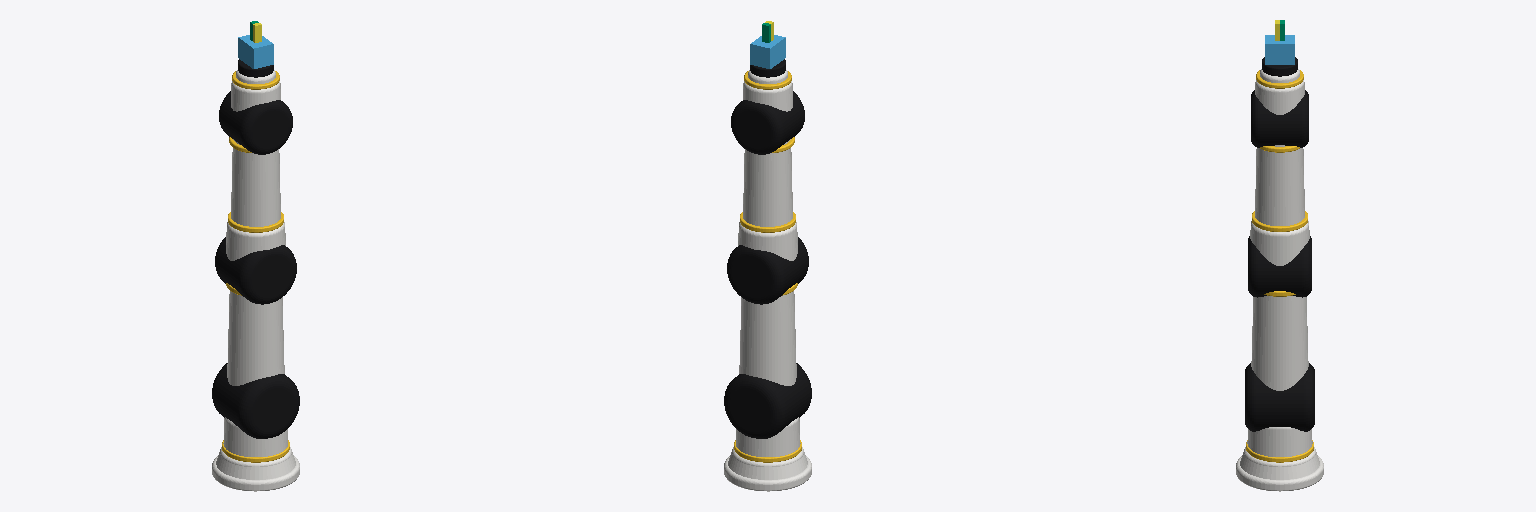
The robot description file, URDF, robot "omniarm6":
<?xml version='1.0' encoding='utf-8'?>
<robot name="omniarm6">

	<link name="link0">
		<inertial>
			<origin rpy="0 0 0" xyz="-0.00090289 -3.524e-05 0.0464554" />
			<mass value="2.002" />
			<inertia ixx="0.00382661" ixy="-1.191e-05" ixz="-3.816e-05" iyy="0.00386108" iyz="-1.6e-06" izz="0.00485705" />
		</inertial>
		<visual>
			<origin xyz="0 0 0" rpy="0 0 0" />
			<geometry>
				<mesh filename="meshes/link0_shell.obj" />
			</geometry>
			<material name="omnisim_shell">
				<color rgba="0.898 0.894 0.882 1.0" />
				<omnisim roughness="0.42" metalness="0.0" />
			</material>
		</visual>
		<visual>
			<origin xyz="0 0 0" rpy="0 0 0" />
			<geometry>
				<mesh filename="meshes/link0_accent.obj" />
			</geometry>
			<material name="omnisim_accent">
				<color rgba="0.965 0.780 0.204 1.0" />
				<omnisim roughness="0.35" metalness="0.2" />
			</material>
		</visual>
<collision>
			<origin xyz="-0.02 0 0.037" rpy="0 0 0" />
			<geometry>
				<cylinder radius="0.12" length="0.075" />
			</geometry>
		</collision>
	</link>

	<link name="link1">
		<inertial>
			<origin rpy="0 0 0" xyz="2.496e-05 0.0196556 0.169149" />
			<mass value="8.256" />
			<inertia ixx="0.0447417" ixy="-5.18e-06" ixz="3.29e-06" iyy="0.038383" iyz="-0.00805897" izz="0.0211142" />
		</inertial>
		<visual>
			<origin xyz="0 0 0" rpy="0 0 0" />
			<geometry>
				<mesh filename="meshes/link1_shell.obj" />
			</geometry>
			<material name="omnisim_shell">
				<color rgba="0.898 0.894 0.882 1.0" />
				<omnisim roughness="0.42" metalness="0.0" />
			</material>
		</visual>
		<visual>
			<origin xyz="0 0 0" rpy="0 0 0" />
			<geometry>
				<mesh filename="meshes/link1_joint.obj" />
			</geometry>
			<material name="omnisim_joint">
				<color rgba="0.129 0.129 0.137 1.0" />
				<omnisim roughness="0.28" metalness="0.85" />
			</material>
		</visual>
<collision>
			<origin xyz="0 0.01 0.17" rpy="0 0 0" />
			<geometry>
				<cylinder radius="0.10" length="0.23" />
			</geometry>
		</collision>
	</link>

	<link name="link2">
		<inertial>
			<origin rpy="0 0 0" xyz="-4.02745e-06 0.113023 0.158393" />
			<mass value="3.9668" />
			<inertia ixx="0.100126" ixy="1.52983e-07" ixz="4.2228e-06" iyy="0.0997161" iyz="0.00215017" izz="0.00646289" />
		</inertial>
		<visual>
			<origin xyz="0 0 0" rpy="0 0 0" />
			<geometry>
				<mesh filename="meshes/link2_shell.obj" />
			</geometry>
			<material name="omnisim_shell">
				<color rgba="0.898 0.894 0.882 1.0" />
				<omnisim roughness="0.42" metalness="0.0" />
			</material>
		</visual>
		<visual>
			<origin xyz="0 0 0" rpy="0 0 0" />
			<geometry>
				<mesh filename="meshes/link2_accent.obj" />
			</geometry>
			<material name="omnisim_accent">
				<color rgba="0.965 0.780 0.204 1.0" />
				<omnisim roughness="0.35" metalness="0.2" />
			</material>
		</visual>
		<visual>
			<origin xyz="0 0 0" rpy="0 0 0" />
			<geometry>
				<mesh filename="meshes/link2_joint.obj" />
			</geometry>
			<material name="omnisim_joint">
				<color rgba="0.129 0.129 0.137 1.0" />
				<omnisim roughness="0.28" metalness="0.85" />
			</material>
		</visual>
<collision>
			<origin xyz="0 0.13 0.185" rpy="0 0 0" />
			<geometry>
				<cylinder radius="0.10" length="0.49" />
			</geometry>
		</collision>
	</link>

	<link name="link3">
		<inertial>
			<origin rpy="0 -0 0" xyz="-3.51946e-05 0.0177216 0.04073" />
			<mass value="5.26105" />
			<inertia ixx="0.0206029" ixy="1.61027e-05" ixz="2.308e-06" iyy="0.016636" iyz="0.00374158" izz="0.010099" />
		</inertial>
		<visual>
			<origin xyz="0 0 0" rpy="0 0 0" />
			<geometry>
				<mesh filename="meshes/link3_shell.obj" />
			</geometry>
			<material name="omnisim_shell">
				<color rgba="0.898 0.894 0.882 1.0" />
				<omnisim roughness="0.42" metalness="0.0" />
			</material>
		</visual>
		<visual>
			<origin xyz="0 0 0" rpy="0 0 0" />
			<geometry>
				<mesh filename="meshes/link3_accent.obj" />
			</geometry>
			<material name="omnisim_accent">
				<color rgba="0.965 0.780 0.204 1.0" />
				<omnisim roughness="0.35" metalness="0.2" />
			</material>
		</visual>
<collision>
			<origin xyz="0 0 0.04" rpy="0 0 0" />
			<geometry>
				<cylinder radius="0.10" length="0.20" />
			</geometry>
		</collision>
	</link>

	<link name="link4">
		<inertial>
			<origin rpy="0 -0 0" xyz="8.08281e-05 0.044542 0.241911" />
			<mass value="2.271" />
			<inertia ixx="0.0342334" ixy="3.365e-06" ixz="-4.11571e-06" iyy="0.0311273" iyz="-0.00818683" izz="0.00522653" />
		</inertial>
		<visual>
			<origin xyz="0 0 0" rpy="0 0 0" />
			<geometry>
				<mesh filename="meshes/link4_shell.obj" />
			</geometry>
			<material name="omnisim_shell">
				<color rgba="0.898 0.894 0.882 1.0" />
				<omnisim roughness="0.42" metalness="0.0" />
			</material>
		</visual>
		<visual>
			<origin xyz="0 0 0" rpy="0 0 0" />
			<geometry>
				<mesh filename="meshes/link4_accent.obj" />
			</geometry>
			<material name="omnisim_accent">
				<color rgba="0.965 0.780 0.204 1.0" />
				<omnisim roughness="0.35" metalness="0.2" />
			</material>
		</visual>
		<visual>
			<origin xyz="0 0 0" rpy="0 0 0" />
			<geometry>
				<mesh filename="meshes/link4_joint.obj" />
			</geometry>
			<material name="omnisim_joint">
				<color rgba="0.129 0.129 0.137 1.0" />
				<omnisim roughness="0.28" metalness="0.85" />
			</material>
		</visual>
<collision>
			<origin xyz="0 0.035 0.29" rpy="0 0 0" />
			<geometry>
				<cylinder radius="0.10" length="0.35" />
			</geometry>
		</collision>
	</link>

	<link name="link5">
		<inertial>
			<origin rpy="0 -0 0" xyz="4.18387e-05 0.0147744 0.0354" />
			<mass value="2.54629" />
			<inertia ixx="0.00855547" ixy="4.97317e-06" ixz="6.07841e-06" iyy="0.00582159" iyz="0.00129227" izz="0.00358312" />
		</inertial>
		<visual>
			<origin xyz="0 0 0" rpy="0 0 0" />
			<geometry>
				<mesh filename="meshes/link5_shell.obj" />
			</geometry>
			<material name="omnisim_shell">
				<color rgba="0.898 0.894 0.882 1.0" />
				<omnisim roughness="0.42" metalness="0.0" />
			</material>
		</visual>
		<visual>
			<origin xyz="0 0 0" rpy="0 0 0" />
			<geometry>
				<mesh filename="meshes/link5_accent.obj" />
			</geometry>
			<material name="omnisim_accent">
				<color rgba="0.965 0.780 0.204 1.0" />
				<omnisim roughness="0.35" metalness="0.2" />
			</material>
		</visual>
<collision>
			<origin xyz="0 0 0.04" rpy="0 0 0" />
			<geometry>
				<cylinder radius="0.10" length="0.18" />
			</geometry>
		</collision>
	</link>

	<link name="link6">
		<inertial>
			<origin rpy="0 -0 0" xyz="-2.51647e-06 0.000204679 0.12067" />
			<mass value="0.577639" />
			<inertia ixx="0.00034085" ixy="1.01877e-06" ixz="-1.4781e-07" iyy="0.00038675" iyz="-1.06647e-06" izz="0.000536577" />
		</inertial>
		<visual>
			<origin xyz="0 0 0" rpy="0 0 0" />
			<geometry>
				<mesh filename="meshes/link6_shell.obj" />
			</geometry>
			<material name="omnisim_shell">
				<color rgba="0.898 0.894 0.882 1.0" />
				<omnisim roughness="0.42" metalness="0.0" />
			</material>
		</visual>
		<visual>
			<origin xyz="0 0 0" rpy="0 0 0" />
			<geometry>
				<mesh filename="meshes/link6_joint.obj" />
			</geometry>
			<material name="omnisim_joint">
				<color rgba="0.129 0.129 0.137 1.0" />
				<omnisim roughness="0.28" metalness="0.85" />
			</material>
		</visual>
<collision>
			<origin xyz="0 0 0.083" rpy="0 0 0" />
			<geometry>
				<cylinder radius="0.05" length="0.165" />
			</geometry>
		</collision>
	</link>

	<link name="flange">
	</link>

	<link name="gripper_tcp">
	</link>


	<joint name="joint1" type="revolute">
		<limit lower="-3.14159" upper="3.14159" effort="194" velocity="3.1415" />
		<origin rpy="0 0 0" xyz="0 0 0" />
		<parent link="link0" />
		<child link="link1" />
		<axis xyz="0 0 1" />
	</joint>

	<joint name="joint2" type="revolute">
		<limit lower="-3.14159" upper="3.14159" effort="194" velocity="3.1415" />
		<origin rpy="0 0 0" xyz="0 0 0.22" />
		<parent link="link1" />
		<child link="link2" />
		<axis xyz="0 1 0" />
	</joint>

	<joint name="joint3" type="revolute">
		<limit lower="-2.61799" upper="2.61799" effort="102" velocity="3.1415" />
		<origin rpy="0 0 0" xyz="0 0 0.38" />
		<parent link="link2" />
		<child link="link3" />
		<axis xyz="0 1 0" />
	</joint>

	<joint name="joint4" type="revolute">
		<limit lower="-6.28319" upper="6.28319" effort="102" velocity="3.1415" />
		<origin rpy="0 0 0" xyz="0 0 0" />
		<parent link="link3" />
		<child link="link4" />
		<axis xyz="0 0 1" />
	</joint>

	<joint name="joint5" type="revolute">
		<limit lower="-3.14159" upper="3.14159" effort="34" velocity="3.4906" />
		<origin rpy="0 0 0" xyz="0 0 0.42" />
		<parent link="link4" />
		<child link="link5" />
		<axis xyz="0 1 0" />
	</joint>

	<joint name="joint6" type="revolute">
		<limit lower="-6.28319" upper="6.28319" effort="34" velocity="3.4906" />
		<origin rpy="0 0 0" xyz="0 0 0" />
		<parent link="link5" />
		<child link="link6" />
		<axis xyz="0 0 1" />
	</joint>

	<joint name="link6flange" type="fixed">
		<origin rpy="0 0 0" xyz="0 0 0.1655" />
		<parent link="link6" />
		<child link="flange" />
	</joint>

	<joint name="flangegripper_tcp" type="fixed">
		<origin rpy="0 0 0" xyz="0 0 0.0" />
		<parent link="flange" />
		<child link="gripper_tcp" />
	</joint>


	<!-- ===== Robotiq 2F-85 (physics): real prismatic fingers on link6 ===== -->
	<link name="robotiq_2f85_base_link">
		<visual><origin xyz="0 0 0.030" rpy="0 0 0"/><geometry><box size="0.060 0.080 0.060"/></geometry></visual>
		<collision><origin xyz="0 0 0.030" rpy="0 0 0"/><geometry><box size="0.060 0.080 0.060"/></geometry></collision>
		<inertial><origin xyz="0 0 0.030" rpy="0 0 0"/><mass value="0.925"/><inertia ixx="6.6e-4" ixy="0" ixz="0" iyy="4.8e-4" iyz="0" izz="6.6e-4"/></inertial>
	</link>
	<joint name="robotiq_2f85_joint" type="fixed">
		<origin rpy="0 0 0" xyz="0 0 0.1655"/>
		<parent link="link6"/>
		<child link="robotiq_2f85_base_link"/>
	</joint>
	<link name="robotiq_2f85_left_finger_link">
		<visual><origin xyz="0 0 0.025" rpy="0 0 0"/><geometry><box size="0.020 0.014 0.050"/></geometry></visual>
		<collision><origin xyz="0 0 0.025" rpy="0 0 0"/><geometry><box size="0.020 0.014 0.050"/></geometry></collision>
		<inertial><origin xyz="0 0 0.025" rpy="0 0 0"/><mass value="0.040"/><inertia ixx="9.3e-6" ixy="0" ixz="0" iyy="9.5e-6" iyz="0" izz="2.7e-6"/></inertial>
	</link>
	<joint name="robotiq_2f85_finger" type="prismatic">
		<!-- Pad at half-thickness (0.007) from centre so the two pads meet at y=0
		     when q=0: a faithful 2F-85 closing to ~0 mm. The old 0.020 origin
		     bottomed the inner faces 26 mm apart, too wide to pinch a 6 mm wall. -->
		<origin rpy="0 0 0" xyz="0 0.007 0.060"/>
		<parent link="robotiq_2f85_base_link"/>
		<child link="robotiq_2f85_left_finger_link"/>
		<axis xyz="0 1 0"/>
		<!-- lower=-0.03: allow a 30 mm overclose so a thin-wall pinch saturates the
		     50 N effort cap (pads physically stall on the wall or each other). -->
		<limit lower="-0.03" upper="0.0425" effort="50" velocity="0.04"/>
	</joint>
	<link name="robotiq_2f85_right_finger_link">
		<visual><origin xyz="0 0 0.025" rpy="0 0 0"/><geometry><box size="0.020 0.014 0.050"/></geometry></visual>
		<collision><origin xyz="0 0 0.025" rpy="0 0 0"/><geometry><box size="0.020 0.014 0.050"/></geometry></collision>
		<inertial><origin xyz="0 0 0.025" rpy="0 0 0"/><mass value="0.040"/><inertia ixx="9.3e-6" ixy="0" ixz="0" iyy="9.5e-6" iyz="0" izz="2.7e-6"/></inertial>
	</link>
	<joint name="robotiq_2f85_finger_mirror" type="prismatic">
		<origin rpy="0 0 0" xyz="0 -0.007 0.060"/>
		<parent link="robotiq_2f85_base_link"/>
		<child link="robotiq_2f85_right_finger_link"/>
		<axis xyz="0 -1 0"/>
		<limit lower="-0.03" upper="0.0425" effort="50" velocity="0.04"/>
	</joint>

</robot>

--- Render facts (derived) ---
Views: 3 orthographic renders of the robot side by side, from view 1: azimuth 30°, elevation 25°; view 2: azimuth 150°, elevation 25°; view 3: azimuth 270°, elevation 25°.
Robot: omniarm6 — 12 links, 11 joints (6 revolute, 2 prismatic, 3 fixed); root link link0; default pose: every joint at zero.
Visible links, largest first — view 1: link2, link4, link1, link0, link3, link5, robotiq_2f85_base_link, link6; view 2: link2, link4, link1, link0, link3, link5, robotiq_2f85_base_link, link6; view 3: link2, link4, link1, link0, link3, link5, robotiq_2f85_base_link, link6.
Boxes of the visible links, x1=… form: link2: x1=215, y1=237, x2=296, y2=385; link4: x1=219, y1=91, x2=292, y2=226; link1: x1=212, y1=363, x2=299, y2=456; link0: x1=212, y1=440, x2=299, y2=491; link3: x1=226, y1=212, x2=285, y2=260; link5: x1=231, y1=71, x2=280, y2=111; robotiq_2f85_base_link: x1=238, y1=35, x2=273, y2=68; link6: x1=236, y1=59, x2=275, y2=83; link2: x1=727, y1=237, x2=808, y2=385; link4: x1=731, y1=91, x2=804, y2=226; link1: x1=724, y1=363, x2=811, y2=456; link0: x1=724, y1=440, x2=811, y2=491; link3: x1=738, y1=212, x2=797, y2=260; link5: x1=743, y1=71, x2=792, y2=111; robotiq_2f85_base_link: x1=750, y1=35, x2=785, y2=68; link6: x1=748, y1=59, x2=787, y2=83; link2: x1=1248, y1=236, x2=1311, y2=390; link4: x1=1251, y1=90, x2=1308, y2=225; link1: x1=1245, y1=363, x2=1314, y2=456; link0: x1=1236, y1=440, x2=1323, y2=491; link3: x1=1250, y1=211, x2=1309, y2=265; link5: x1=1255, y1=70, x2=1304, y2=114; robotiq_2f85_base_link: x1=1265, y1=35, x2=1294, y2=64; link6: x1=1260, y1=57, x2=1299, y2=82.
Bounding box of the posed robot: 0.23 × 0.23 × 1.3 m (x, y, z).
Meshes: 16 distinct files referenced, 16 mesh visuals loaded (16 OBJ).
